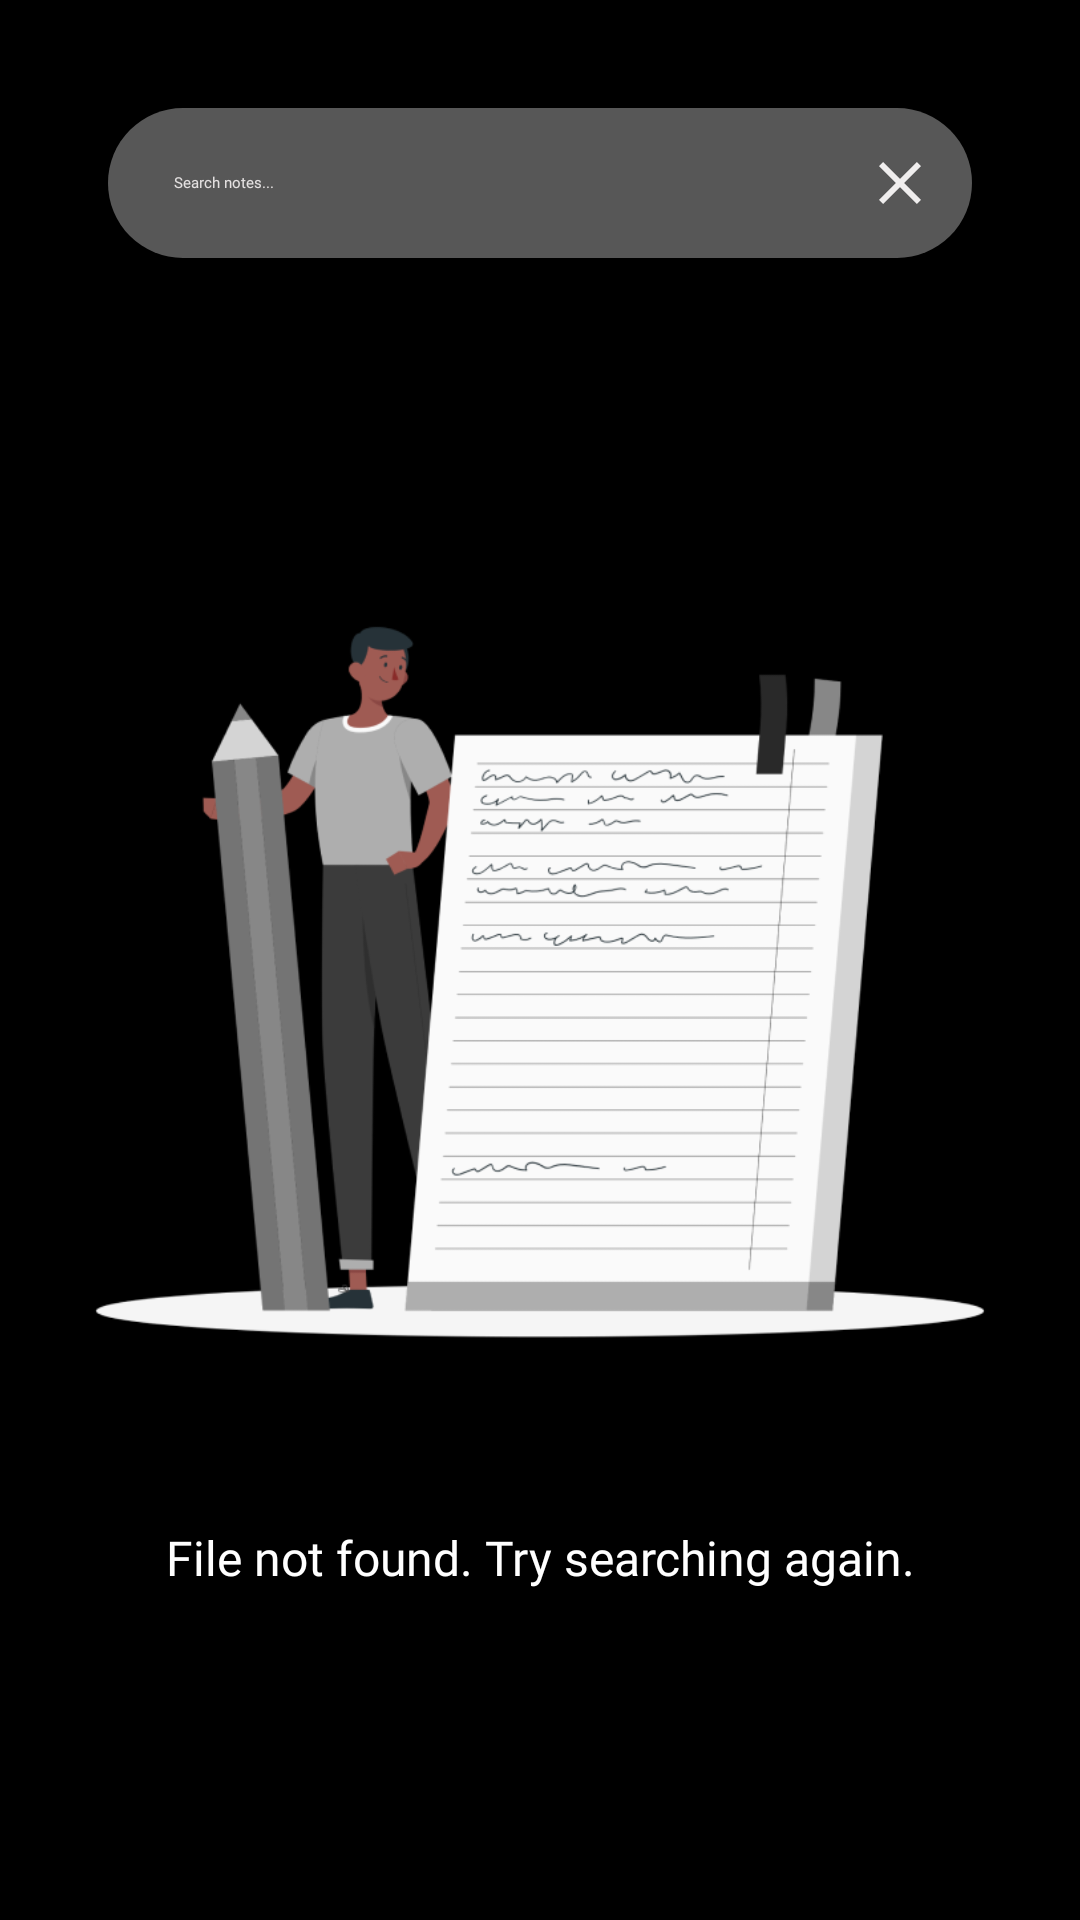

Named icons in this screenshot (1080w x 1920h) and their bounding boxes, (x1, y1, x2, y2):
clear: (879, 162, 921, 204)
